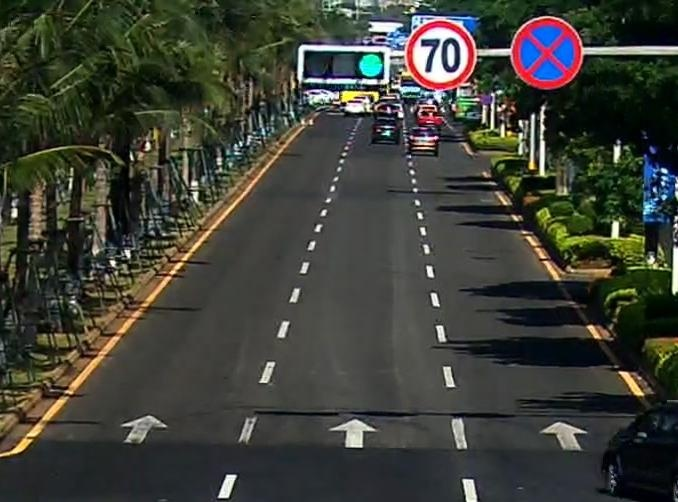green: (360, 52, 383, 79)
